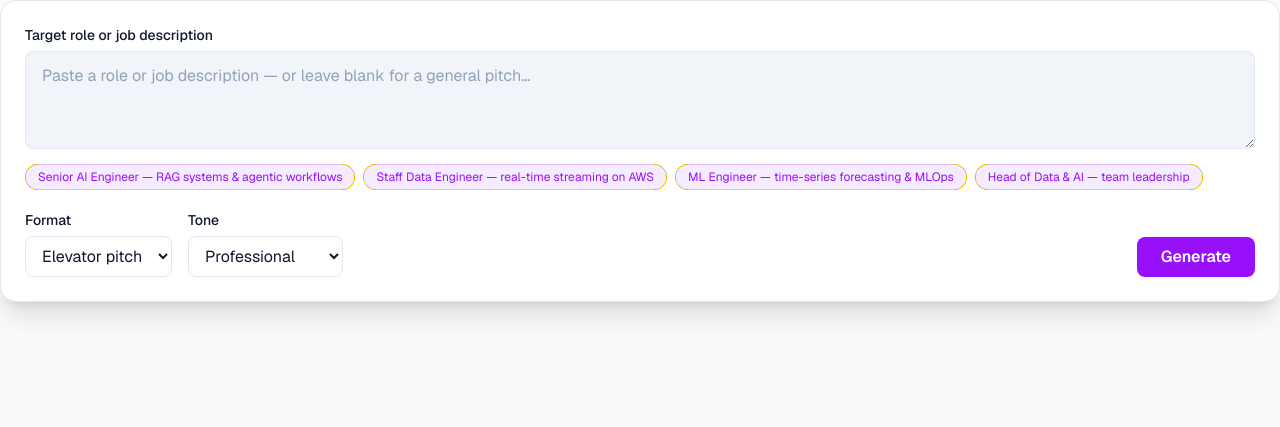
Scenario: ContentGenerator (streaming) › renders a mid-stream error event as the error state
Click the button "Generate" at (1196, 257), box 1137,237 -> 1255,277
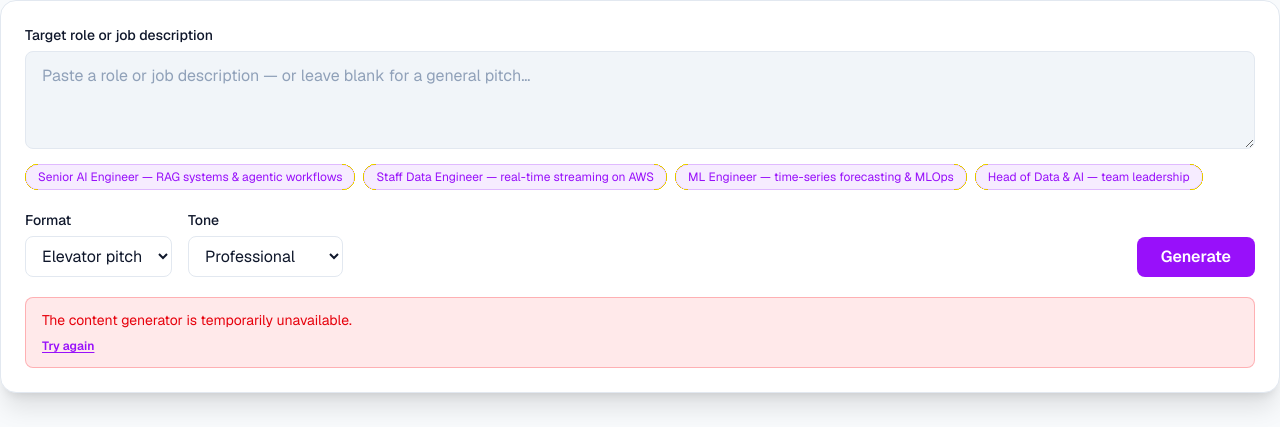
Expected: the text "The content generator is temporarily unavailable." is shown, 42,311 -> 352,329
